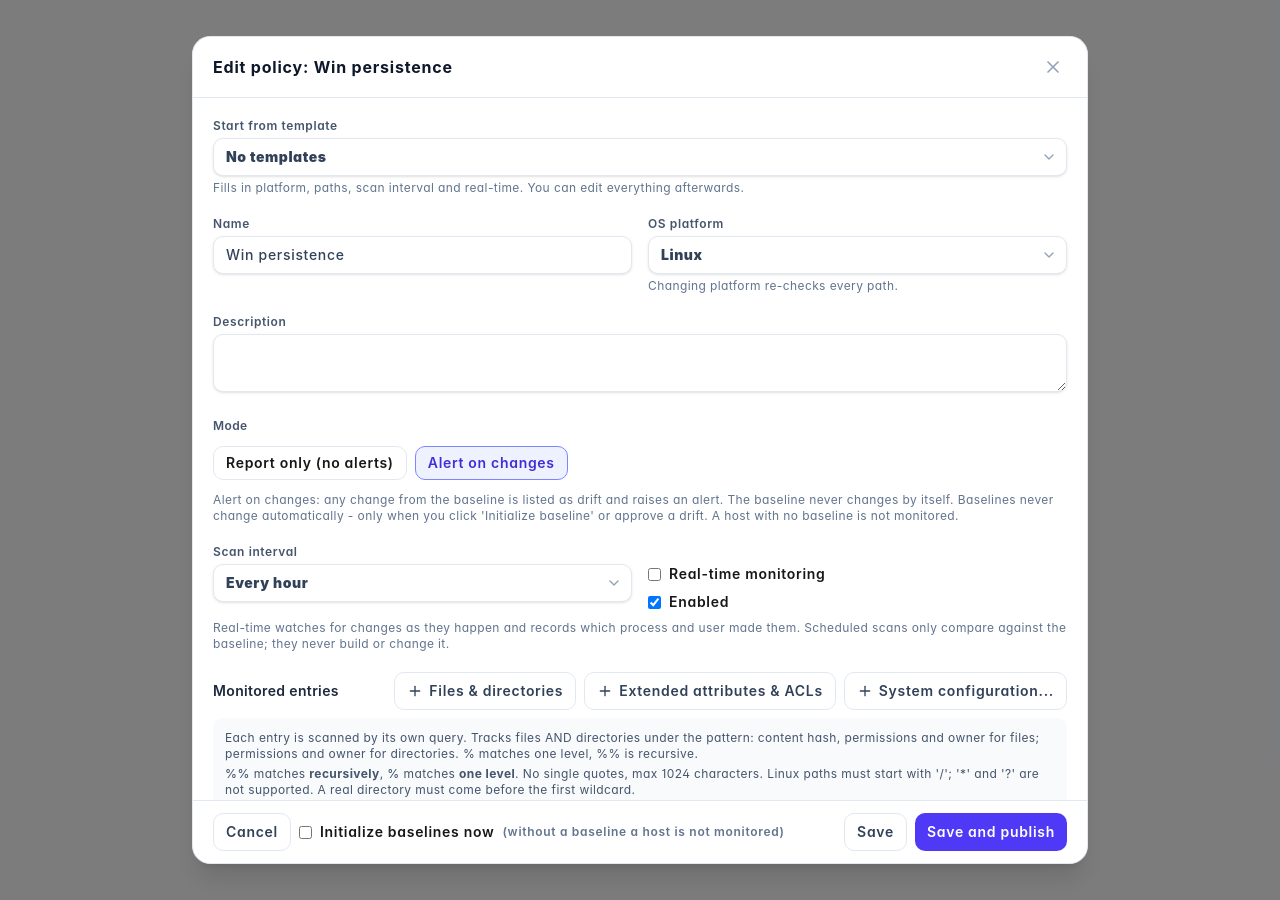
Test: policy editor highlights the entry a save error names › marks entry #1 when the server answers "paths[1]: ..."
The image size is (1280, 900).
What coordinates should you click on to do the following:
click the button "Save"
I would click on:
 (876, 832)
Its box is [844,813,907,851].
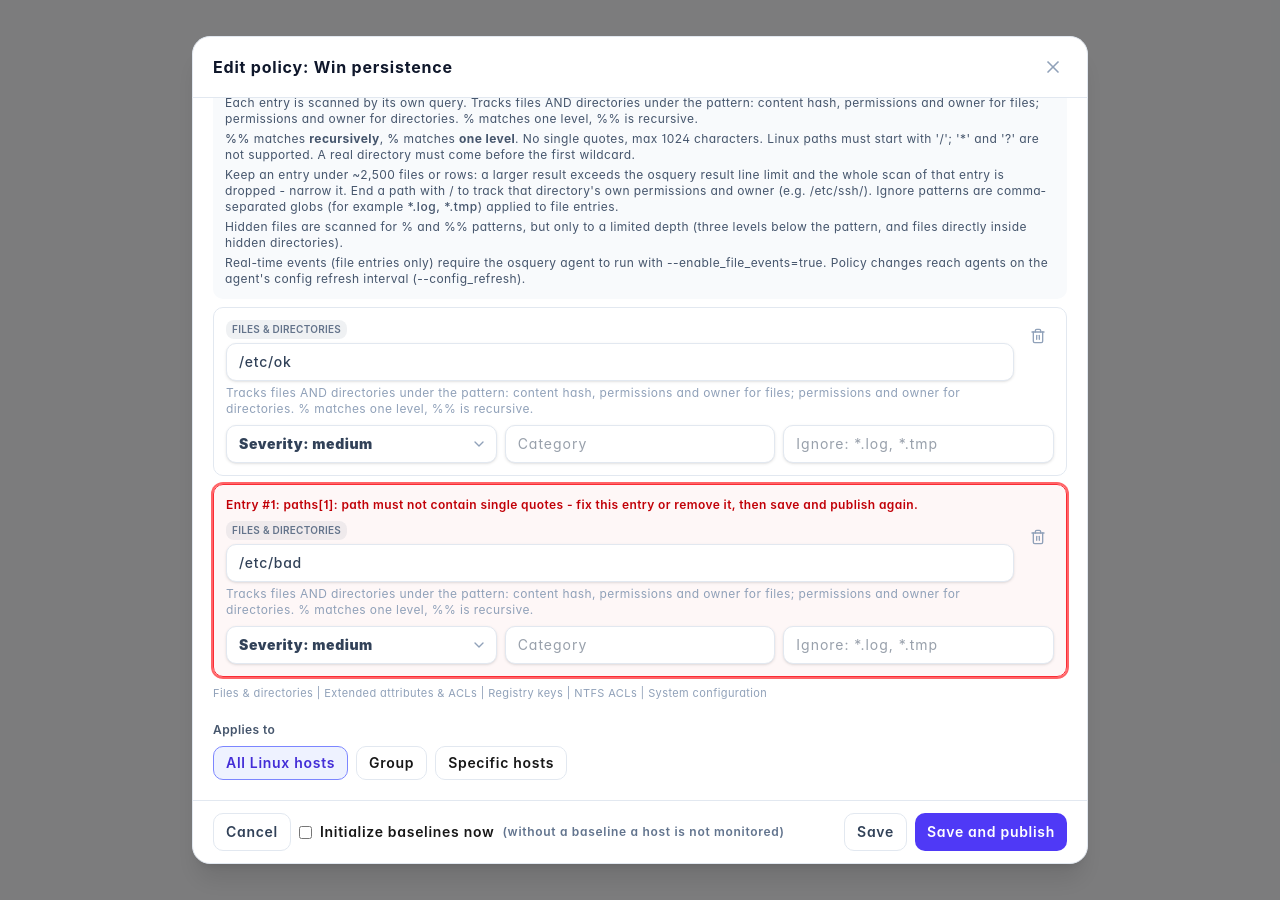
Expected: the text "fix this entry or remove it" is shown, [564,497,918,512]
